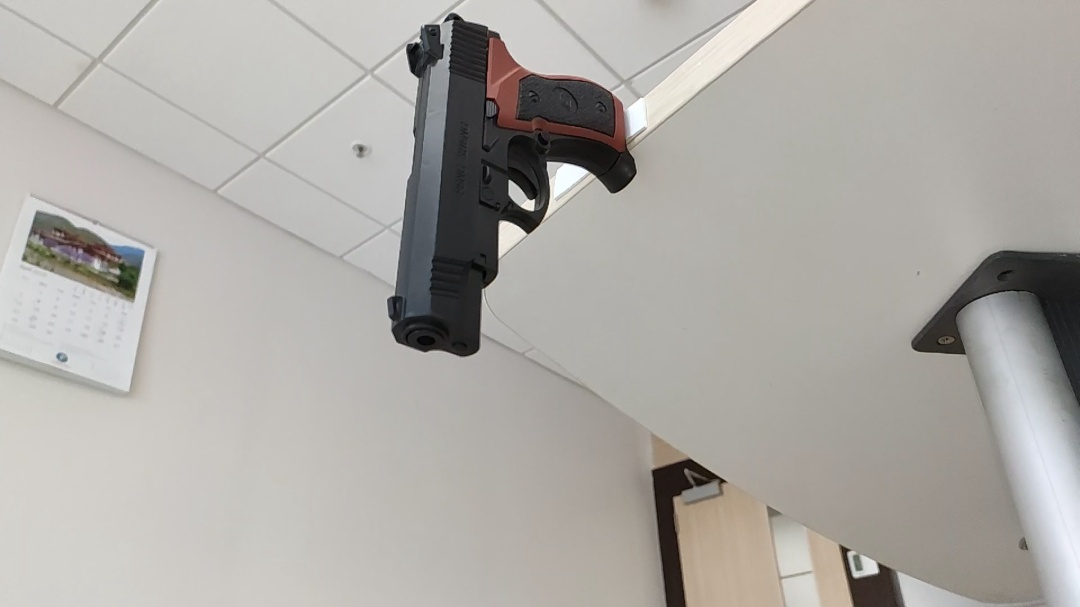gun: (288, 222, 609, 470)
